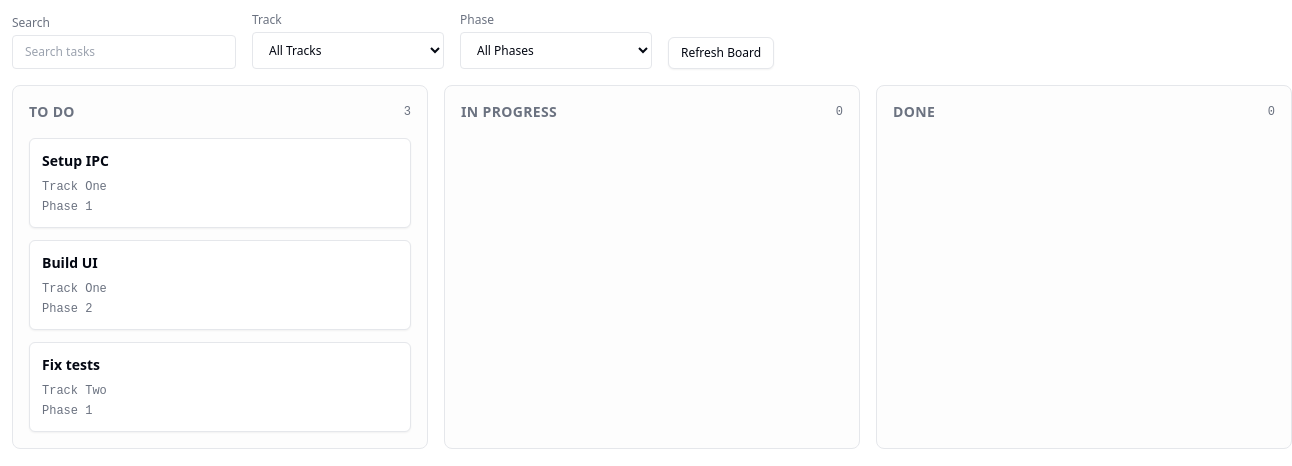
Test: BoardPanel › filters tasks by track selection
This screenshot has width=1292, height=466.
Select "Track One" in the dropdown labelled "Track": x=348, y=50 [252, 32, 444, 69]
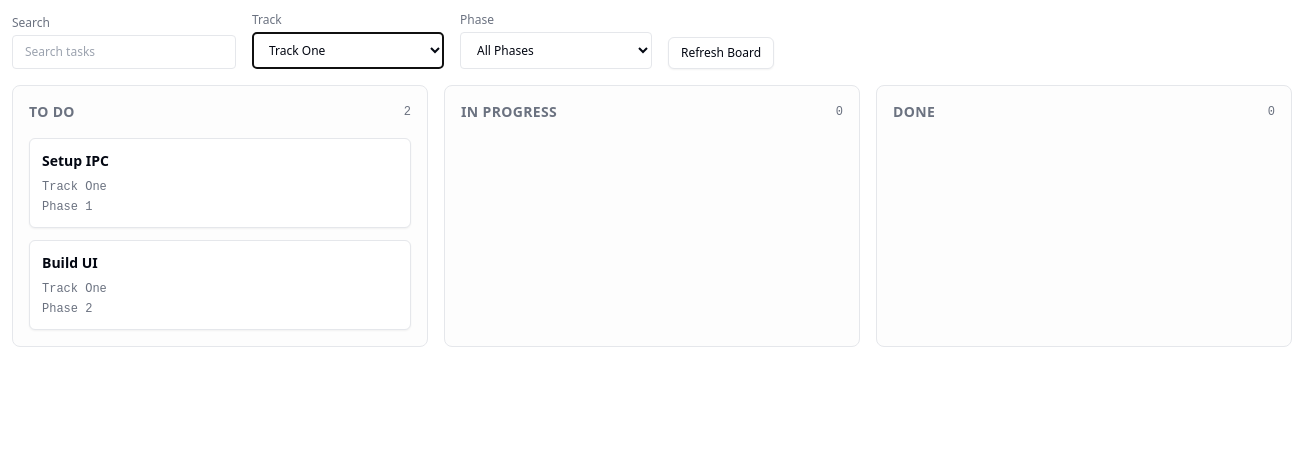
Check: the heading "Setup IPC" is shown, box [42, 151, 109, 170]
Check: the heading "Fix tests" is gone
